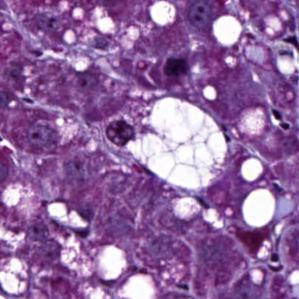ballooning: (124, 93, 230, 194)
